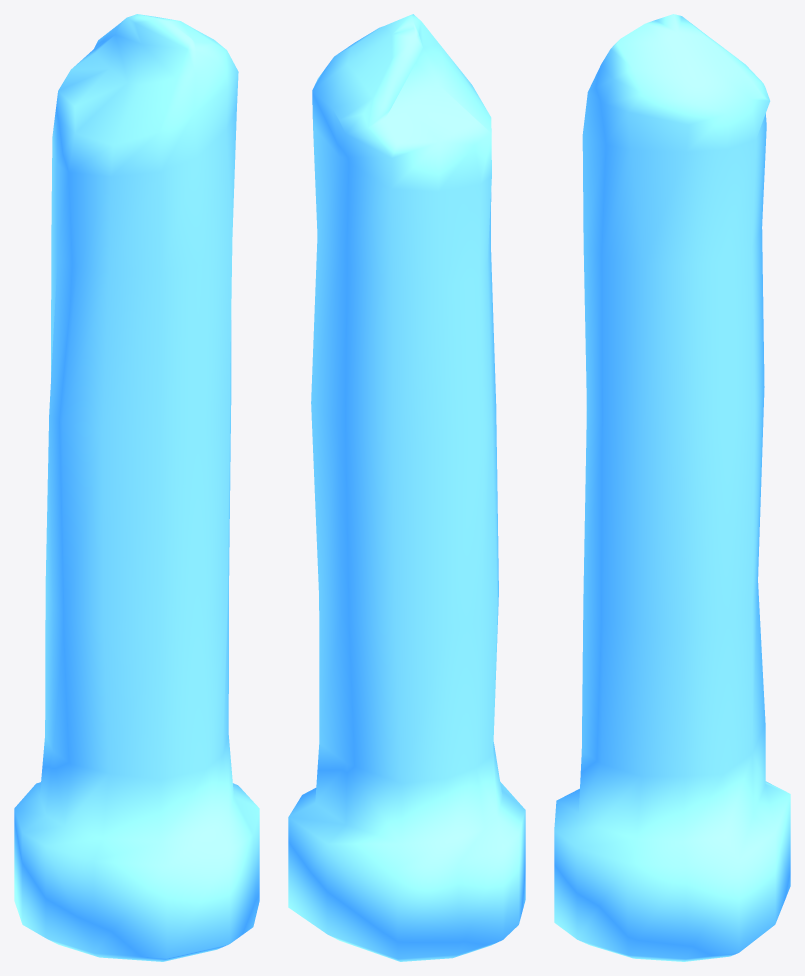
The model's file is Pillar01_003.fbx.
3 views of the same model, side by side, from view 1: azimuth 30°, elevation 25°; view 2: azimuth 150°, elevation 25°; view 3: azimuth 270°, elevation 25° (orthographic).
Parts seen in each view (by area): view 1: Pillar01.003; view 2: Pillar01.003; view 3: Pillar01.003.
Part boxes in pixels (x1,y1,x2,y2): Pillar01.003: (14,14,259,961); Pillar01.003: (288,14,525,961); Pillar01.003: (554,14,790,961).
Size of the model in its own units: 12535 by 51538 by 12235.
